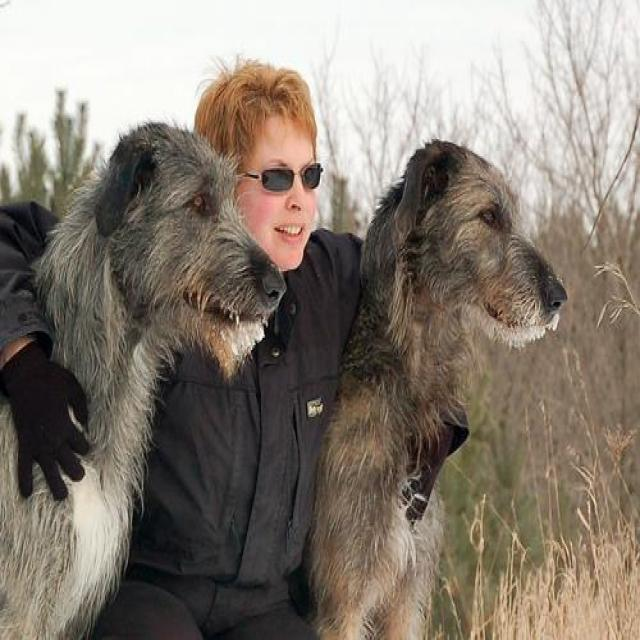irish_wolfhound: (0, 124, 287, 638), (306, 141, 568, 638)
